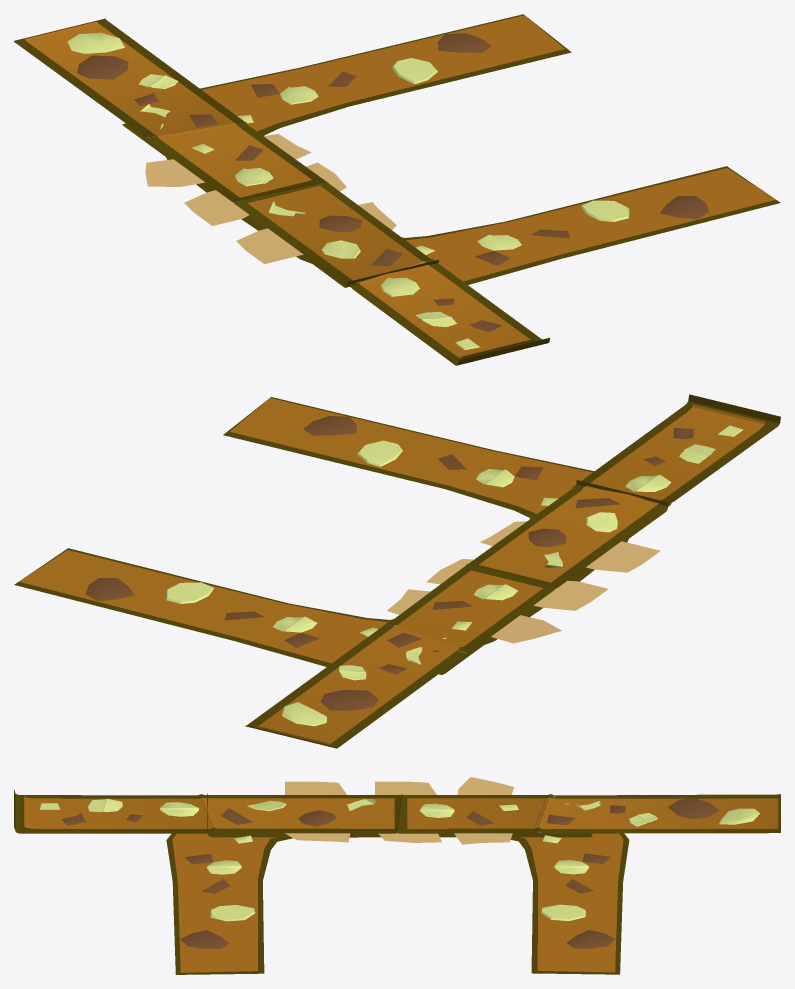
File: SM_Caminos.fbx
3 views of the same model, one above another, from view 1: azimuth 30°, elevation 25°; view 2: azimuth 150°, elevation 25°; view 3: azimuth 270°, elevation 25° (orthographic). The views are drawn at different scales.
Visible parts, largest first — view 1: Camino_centro_largo, Curva_Izquierda, Curva_Derecha, Lozas_Suelo, Camino_centro_corto; view 2: Camino_centro_largo, Curva_Izquierda, Curva_Derecha, Lozas_Suelo, Camino_centro_corto; view 3: Camino_centro_largo, Curva_Izquierda, Curva_Derecha, Lozas_Suelo, Camino_centro_corto.
Boxes of the visible parts, x1,y1,x2,y2 form: Camino_centro_largo: [14, 18, 549, 365]; Curva_Izquierda: [241, 166, 780, 284]; Curva_Derecha: [166, 14, 571, 192]; Lozas_Suelo: [145, 134, 396, 263]; Camino_centro_corto: [122, 123, 438, 287]; Camino_centro_largo: [245, 394, 780, 748]; Curva_Izquierda: [223, 397, 628, 581]; Curva_Derecha: [14, 548, 543, 666]; Lozas_Suelo: [387, 521, 660, 643]; Camino_centro_corto: [432, 480, 668, 675]; Camino_centro_largo: [14, 789, 780, 833]; Curva_Izquierda: [166, 833, 357, 974]; Curva_Derecha: [440, 833, 629, 974]; Lozas_Suelo: [285, 777, 513, 844]; Camino_centro_corto: [207, 793, 592, 837].
Size of the model in its own units: 2.38 by 0.068 by 3.97.
